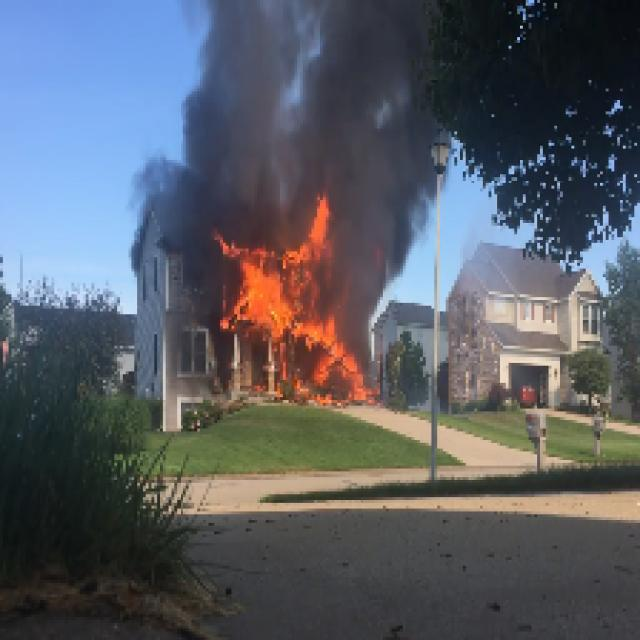Fire: (240, 254, 352, 406)
Smoke: (198, 12, 428, 240)
